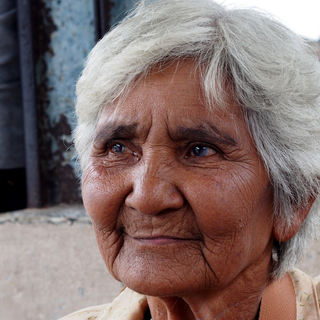eye: (98, 135, 143, 161), (179, 140, 224, 162)
